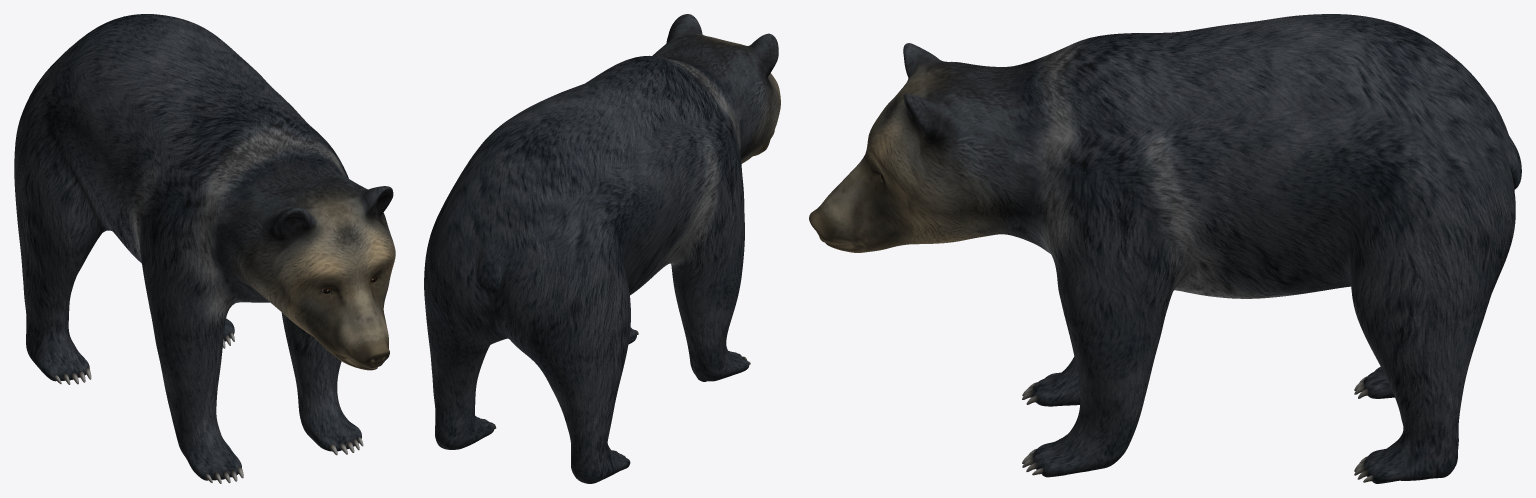
File: bear.glb
3 views of the same model, side by side, from view 1: azimuth 30°, elevation 25°; view 2: azimuth 150°, elevation 25°; view 3: azimuth 270°, elevation 25° (orthographic). The views are drawn at different scales.
Parts seen in each view (by area): view 1: 13576_Tibetan_Bear_v1_l3; view 2: 13576_Tibetan_Bear_v1_l3; view 3: 13576_Tibetan_Bear_v1_l3.
Boxes of the visible parts, x1=… form: 13576_Tibetan_Bear_v1_l3: x1=14, y1=14, x2=395, y2=483; 13576_Tibetan_Bear_v1_l3: x1=424, y1=14, x2=780, y2=483; 13576_Tibetan_Bear_v1_l3: x1=809, y1=14, x2=1521, y2=483.
Size of the model in its own units: 0.7029 by 1.17 by 1.84.
Materials: 1 (1 with a texture image).
